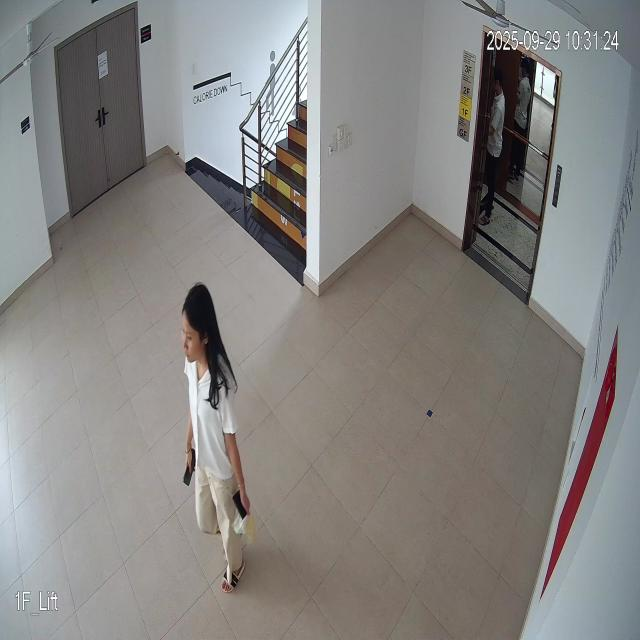face: (178, 276, 215, 370)
